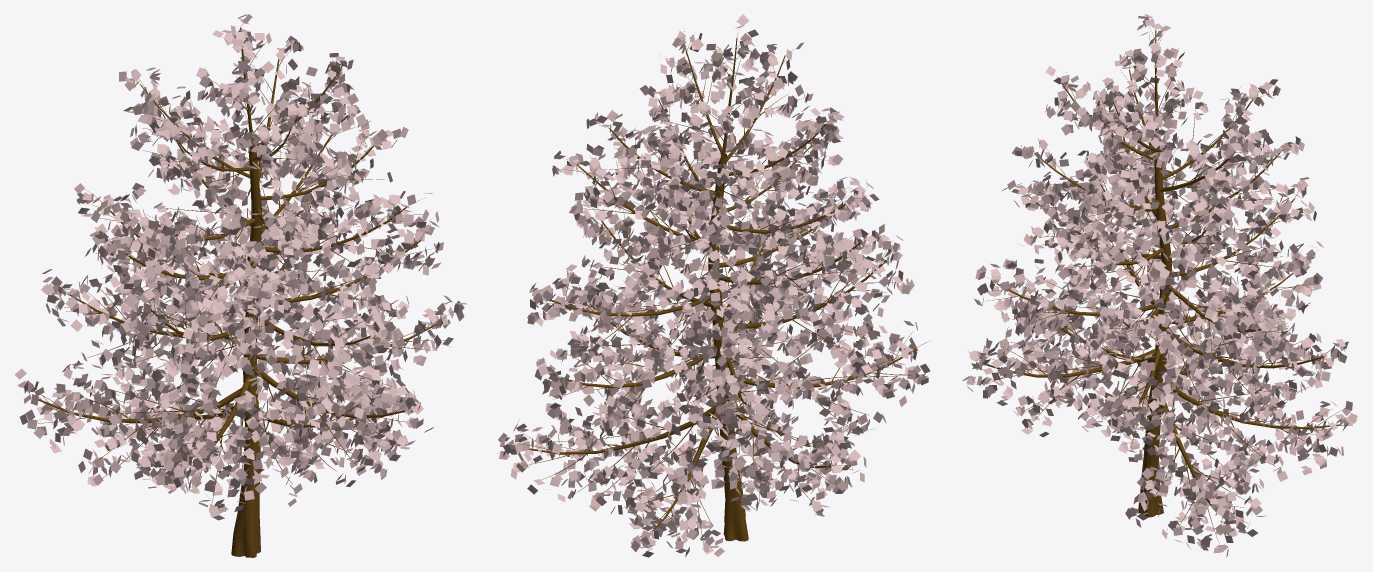
Rendered from Baum6 Neu.FBX.
The picture shows the model from 3 angles, left to right: view 1: azimuth 30°, elevation 25°; view 2: azimuth 150°, elevation 25°; view 3: azimuth 270°, elevation 25°; orthographic projection. The views are drawn at different scales.
Visible parts, largest first — view 1: Foliage012; view 2: Foliage012; view 3: Foliage012.
Part boxes in pixels (<box>): Foliage012: <box>14,14,466,557</box>; Foliage012: <box>497,14,930,557</box>; Foliage012: <box>962,14,1357,557</box>.
Size of the model in its own units: 912 by 1223 by 889.
